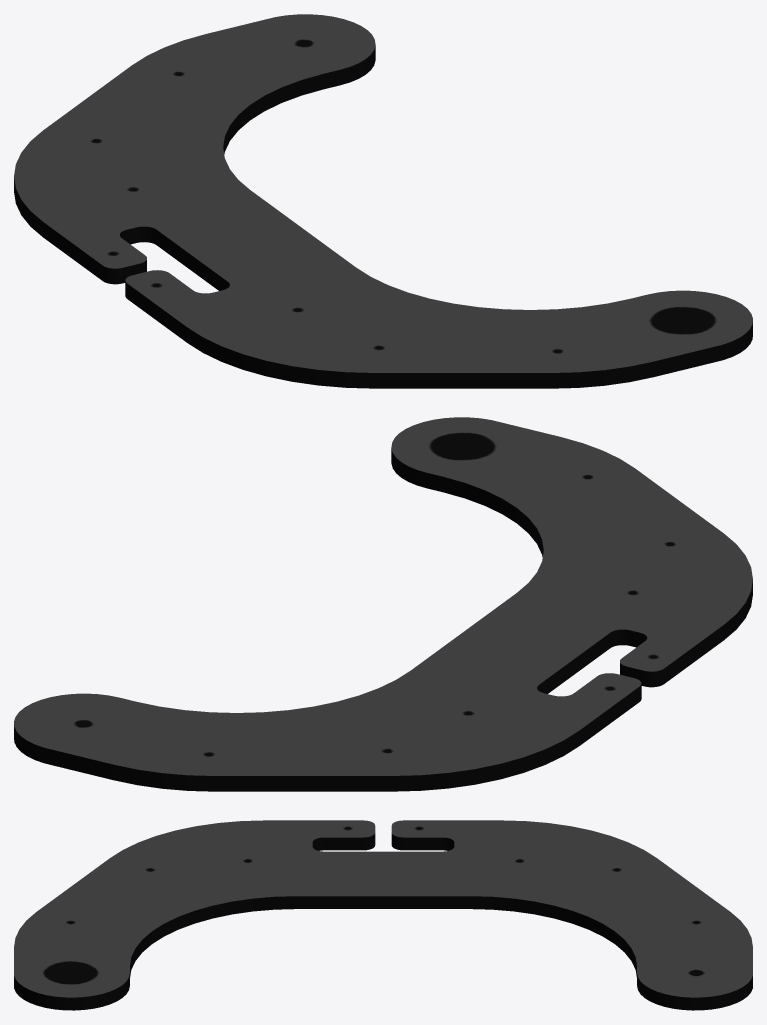
File: plate_higher.dae
3 views of the same model, one above another, from view 1: azimuth 30°, elevation 25°; view 2: azimuth 150°, elevation 25°; view 3: azimuth 270°, elevation 25° (orthographic). The views are drawn at different scales.
Parts seen in each view (by area): view 1: Jupiterobot Circles Higher; view 2: Jupiterobot Circles Higher; view 3: Jupiterobot Circles Higher.
Part boxes in pixels (x1,y1,x2,y2): Jupiterobot Circles Higher: (14, 14, 752, 388); Jupiterobot Circles Higher: (14, 417, 752, 791); Jupiterobot Circles Higher: (14, 820, 752, 1010).
Bounding box in the file's own units: 177 × 312 × 6.
Materials: 1 (1 with a texture image).
